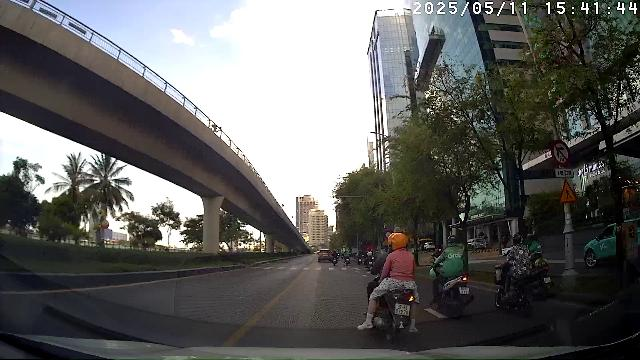103b-cam-oto-re-phai: (550, 140, 572, 166)
